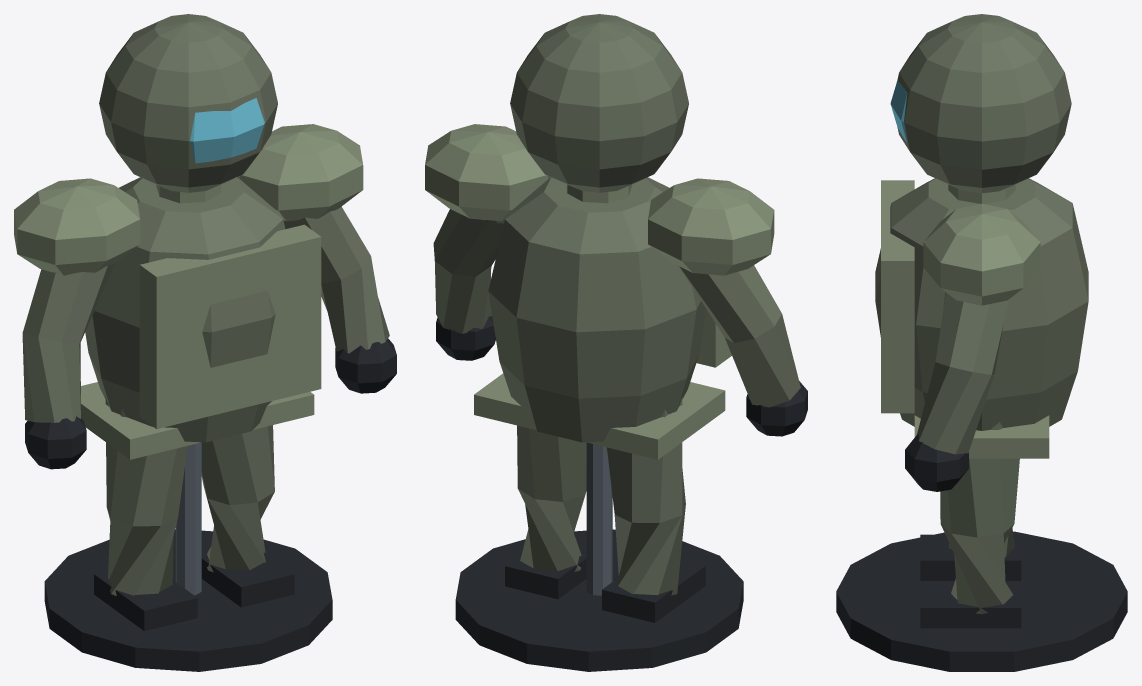
File: plastoid-composite.glb
3 views of the same model, side by side, from view 1: azimuth 30°, elevation 25°; view 2: azimuth 150°, elevation 25°; view 3: azimuth 270°, elevation 25° (orthographic).
Visible parts, largest first — view 1: m; view 2: m; view 3: m.
Part boxes in pixels (x1=…): m: x1=14, y1=14, x2=396, y2=671; m: x1=425, y1=14, x2=807, y2=671; m: x1=836, y1=14, x2=1127, y2=671.
Size of the model in its own units: 0.3641 by 0.56 by 0.251.
